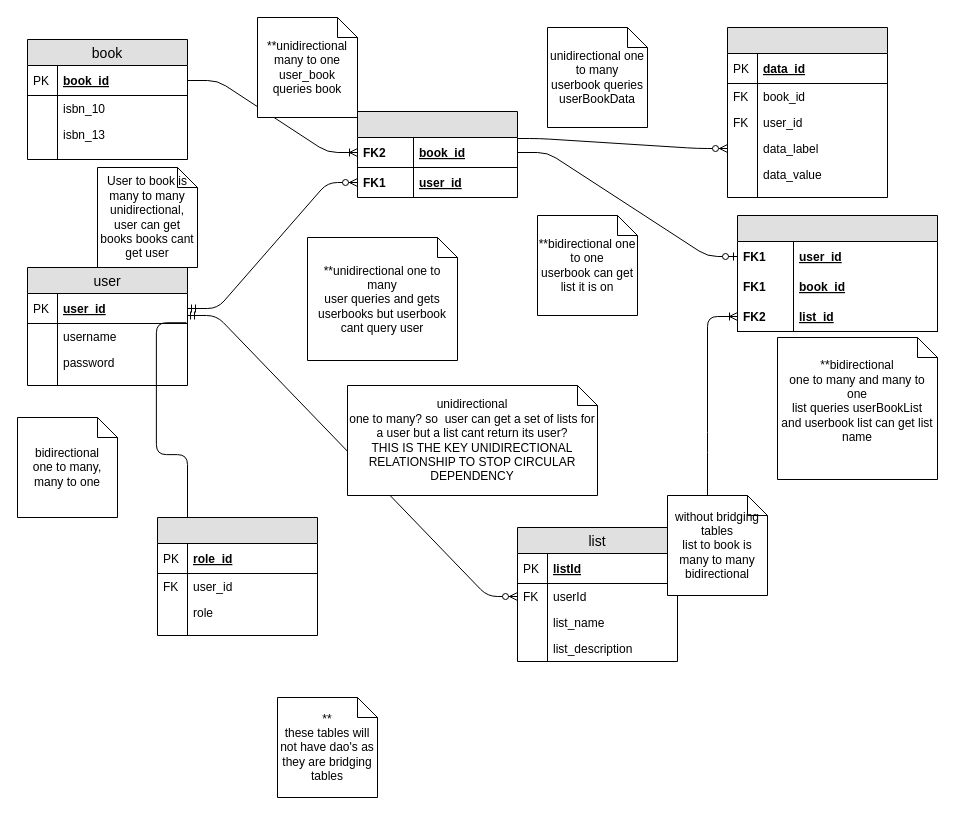
This 955x815 diagram has some shape labels left out. Each missing label, with the box of its shape:
**user_book: (356, 110, 518, 198)
**user_book_list: (736, 214, 938, 332)
user_book_data: (726, 26, 888, 198)
user_role: (156, 516, 318, 636)
